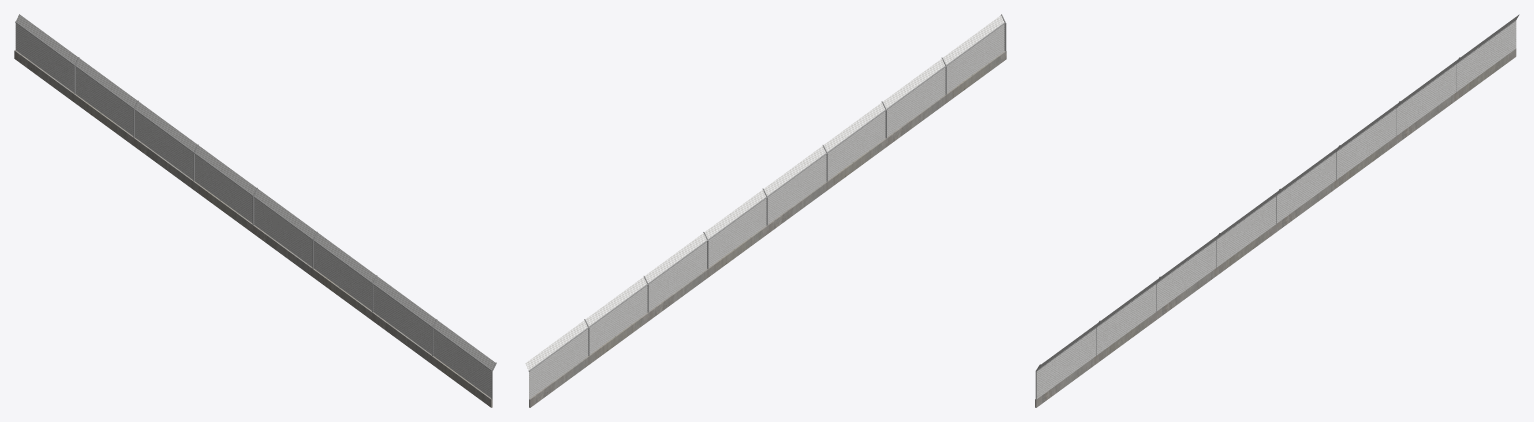
Rendered from Fence__X3_.fbx.
3 views of the same model, side by side, from view 1: azimuth 30°, elevation 25°; view 2: azimuth 150°, elevation 25°; view 3: azimuth 330°, elevation 25° (orthographic).
Visible parts, largest first — view 1: polySurface8; view 2: polySurface8; view 3: polySurface8.
Part boxes in pixels (x1,y1,x2,y2): polySurface8: (14,14,496,407); polySurface8: (525,14,1006,407); polySurface8: (1035,14,1519,407).
Size of the model in its own units: 0.6998 by 5.33 by 104.
